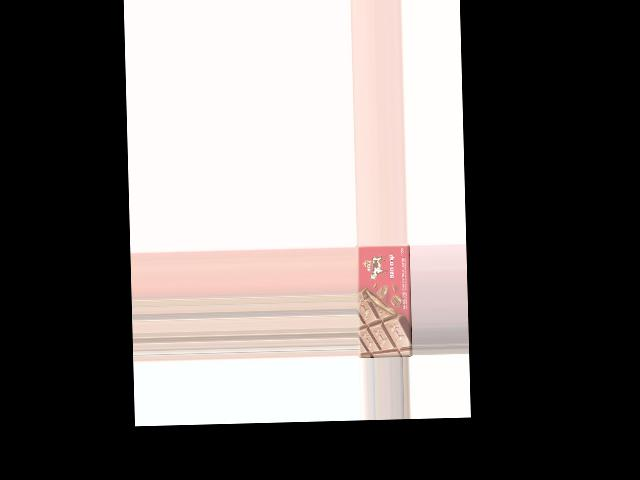chocolate: (355, 243, 411, 356)
